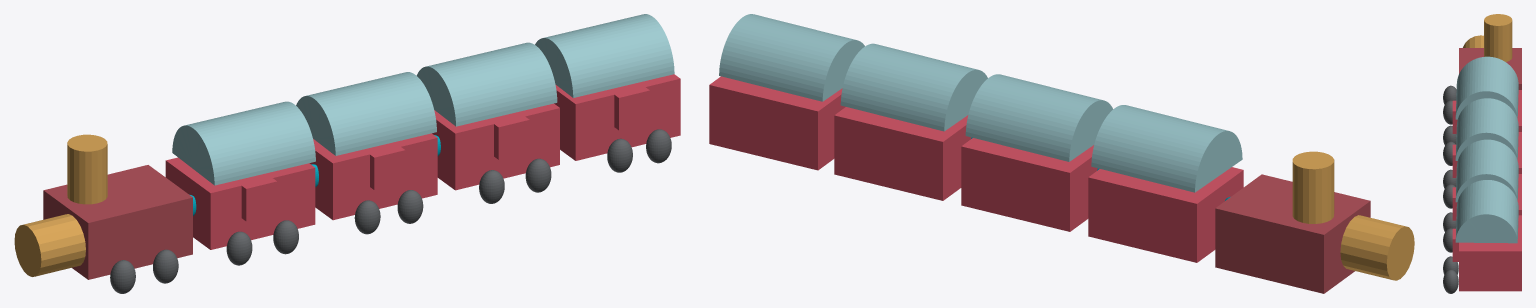
Rendered from Ingenious Kieran.glb.
3 views of the same model, side by side, from view 1: azimuth 30°, elevation 25°; view 2: azimuth 150°, elevation 25°; view 3: azimuth 270°, elevation 25° (orthographic). The views are drawn at different scales.
Visible parts, largest first — view 1: Mesh_Mesh_head_geo.001_lambert2SG.001; view 2: Mesh_Mesh_head_geo.001_lambert2SG.001; view 3: Mesh_Mesh_head_geo.001_lambert2SG.001.
Boxes of the visible parts, box(x1,y1,x2,y2) form: Mesh_Mesh_head_geo.001_lambert2SG.001: box(14, 14, 680, 293); Mesh_Mesh_head_geo.001_lambert2SG.001: box(709, 14, 1414, 293); Mesh_Mesh_head_geo.001_lambert2SG.001: box(1443, 14, 1521, 293).
Bounding box in the file's own units: 164 × 31 × 25.
